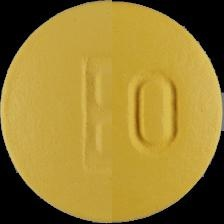55700-258: (0, 0, 224, 224)
